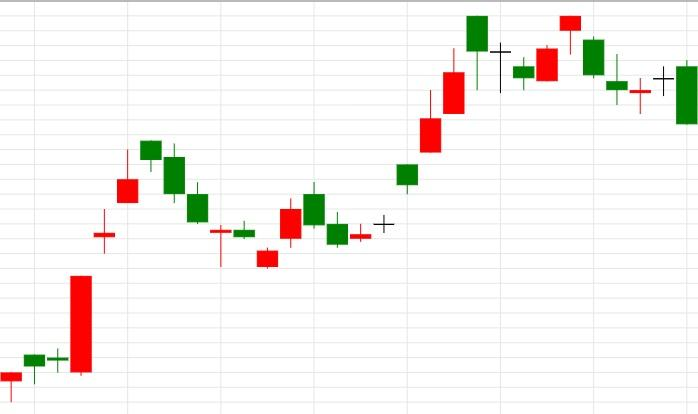hanging_man_fall: (350, 16, 488, 242)
three_black_crows_fall: (70, 141, 208, 376)
